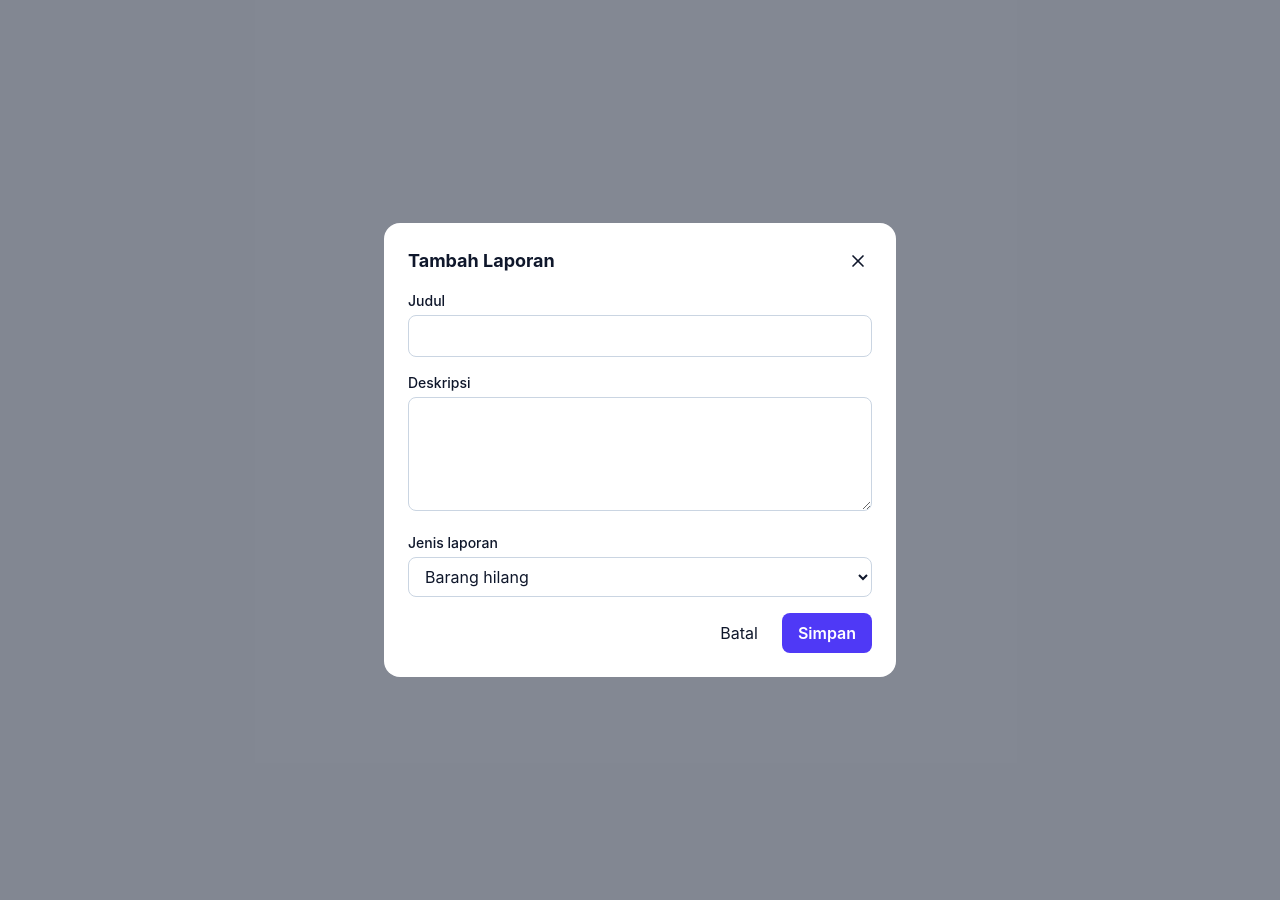
Test: AddModal › hanya menampilkan error deskripsi jika judul sudah diisi
Type "Dompet" into the field labelled "Judul" at x=640, y=336, box [408, 315, 872, 357]
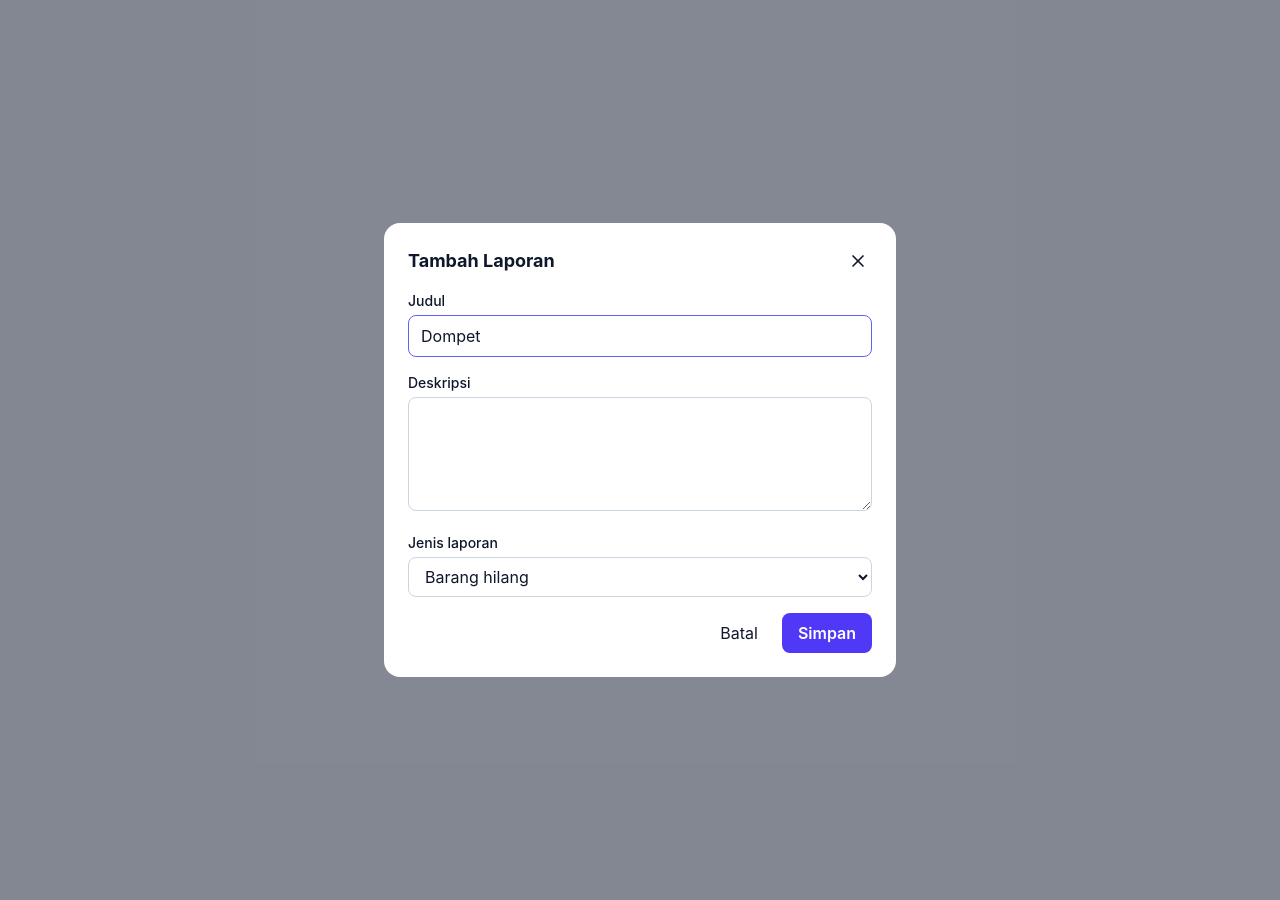
Click the button "Simpan" at x=827, y=633, box [782, 613, 872, 653]
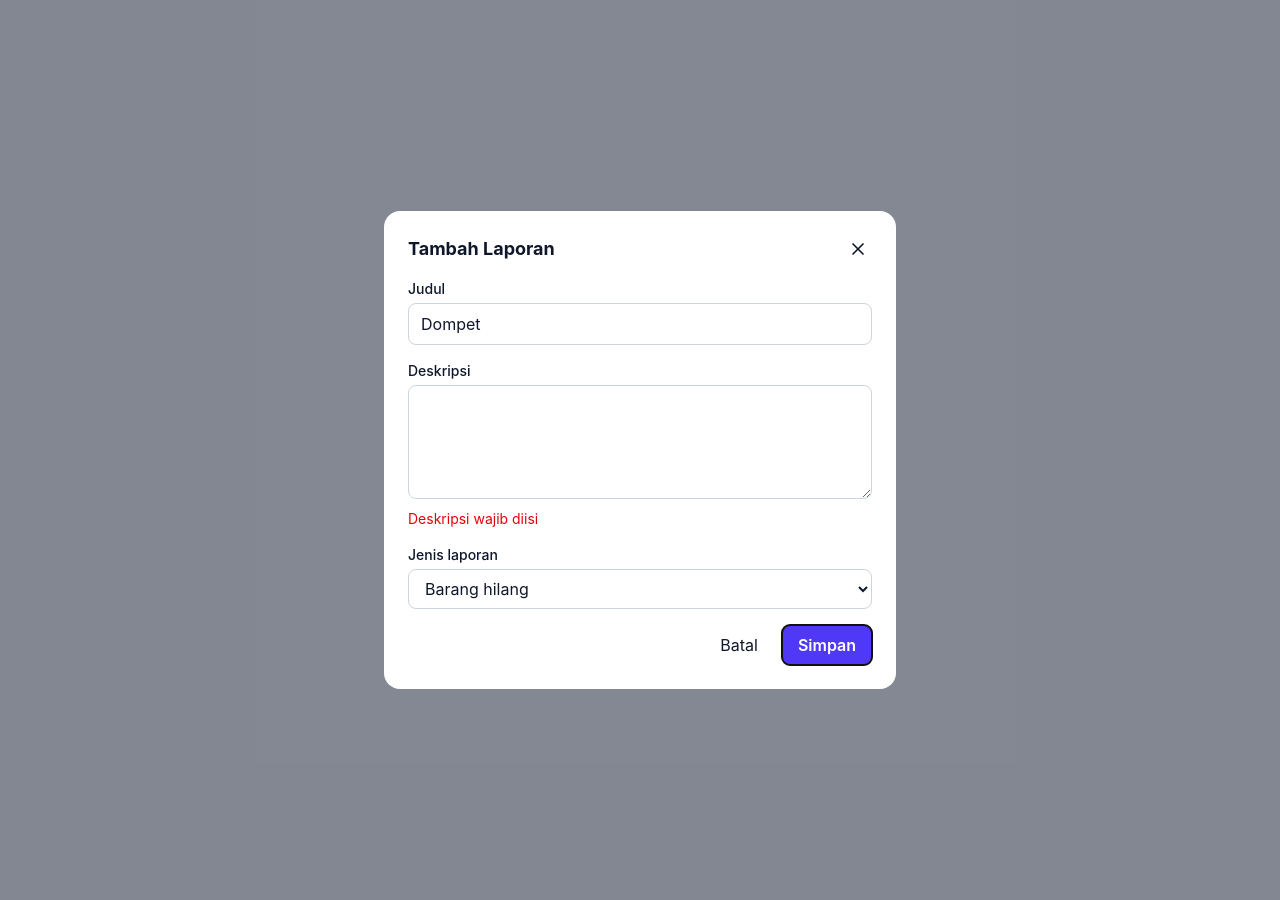
Expected: the text "Deskripsi wajib diisi" is shown, [408, 510, 538, 527]
